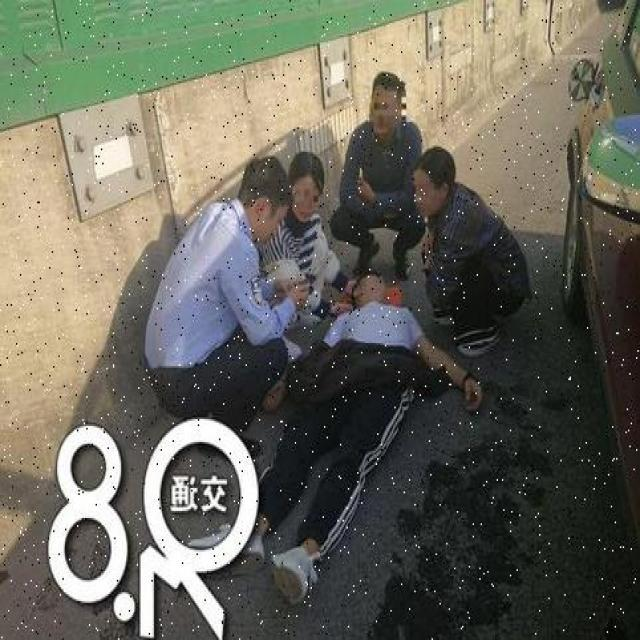fall: (270, 272, 440, 572)
